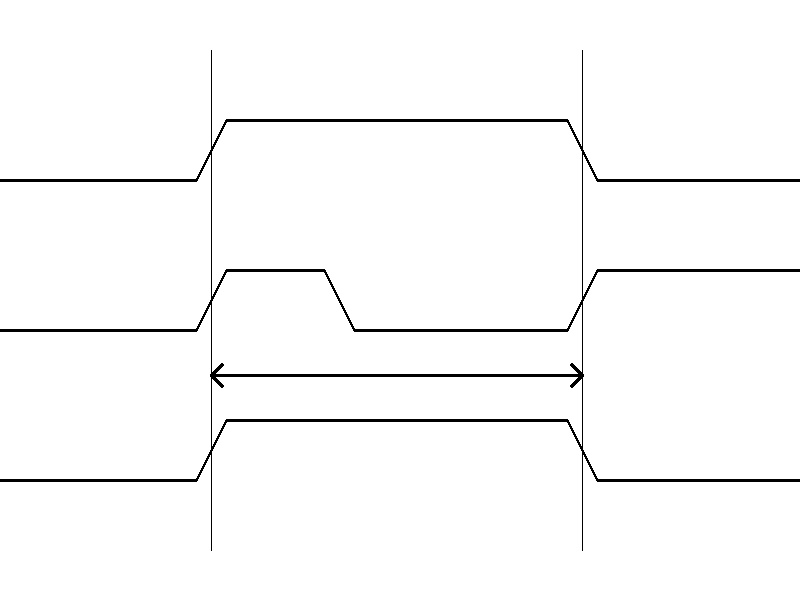double_arrow: (211, 360, 582, 390)
